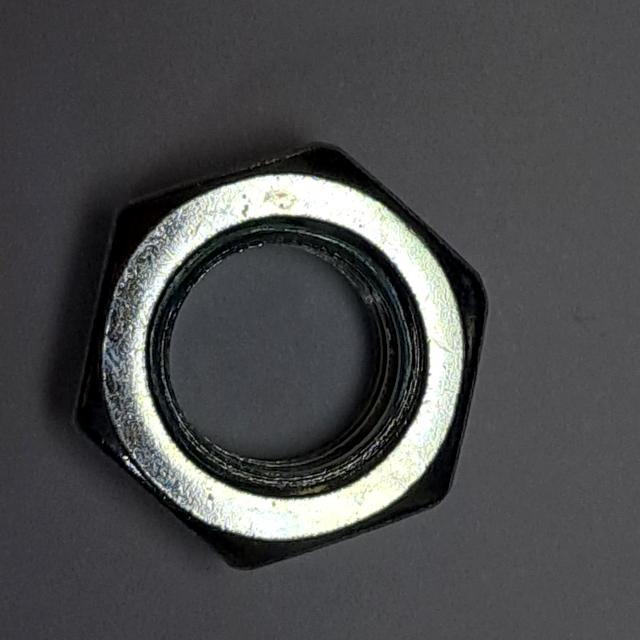Excellent: (60, 130, 504, 587)
